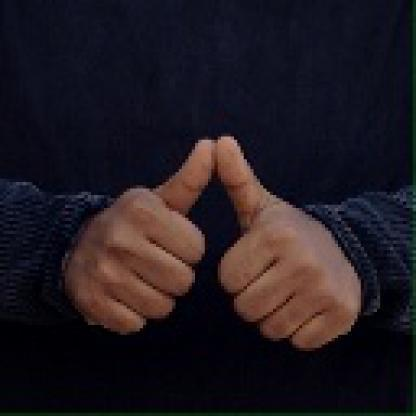A: (66, 121, 372, 352)
